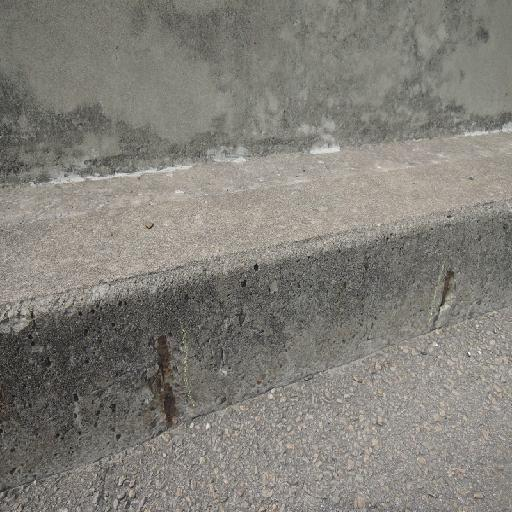exposed_rebar: (157, 335, 177, 426), (432, 270, 455, 328)
